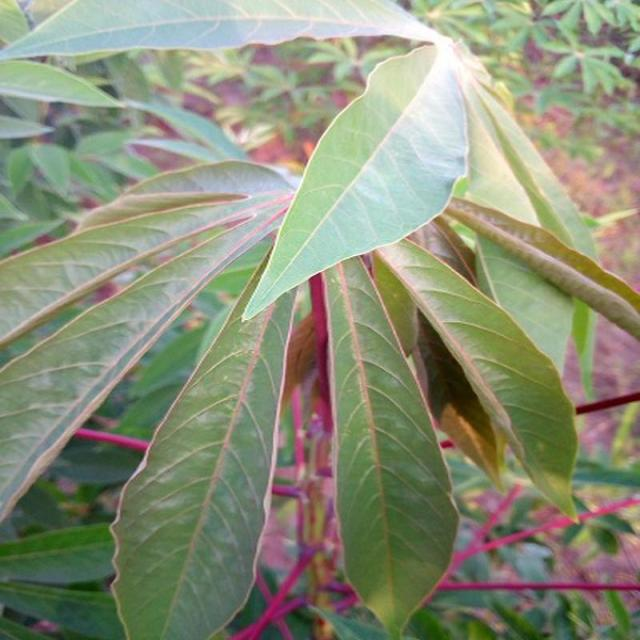cassava leaf: (1, 1, 632, 637), (0, 157, 298, 524), (107, 241, 298, 638), (241, 40, 469, 322), (316, 250, 459, 636)
